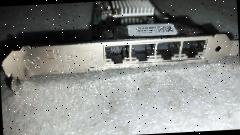electronic: (3, 12, 240, 103)
